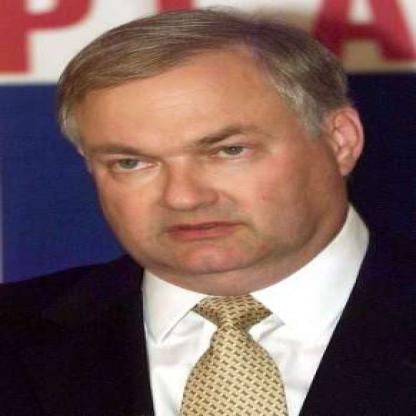face: (70, 31, 338, 284)
